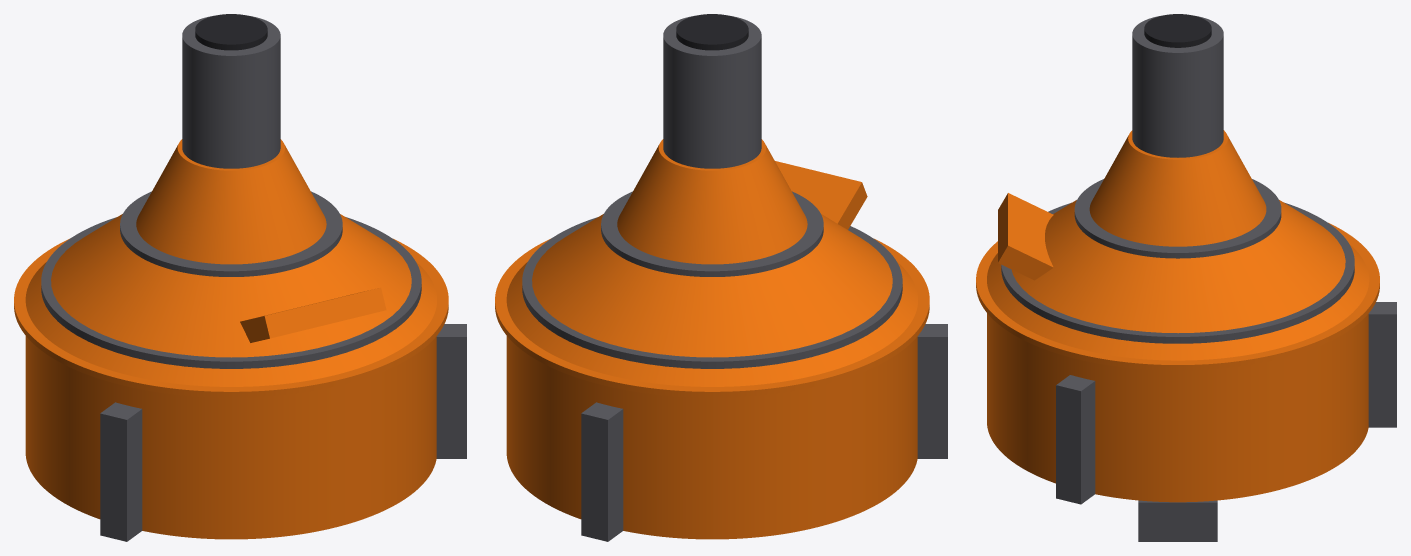
File: Planetary_Concrete_Mixer_500L.glb
3 views of the same model, side by side, from view 1: azimuth 30°, elevation 25°; view 2: azimuth 150°, elevation 25°; view 3: azimuth 270°, elevation 25° (orthographic). The views are drawn at different scales.
Visible parts, largest first — view 1: pan_1aa986, cover_c057bf, gearbox_5702c4, motor_c36afa, rim_d92a5f, water_ring_be586d, supports_0a0d2f, supports_225b87, plate_44587e, water_ring_7807a2, hatch_1ca435, rim (+5 smaller); view 2: pan_1aa986, cover_c057bf, gearbox_5702c4, motor_c36afa, rim_d92a5f, water_ring_be586d, supports_ed8d64, supports_d1896d, plate_44587e, water_ring_7807a2, rim, hatch_041ab1 (+5 smaller); view 3: pan_1aa986, cover_c057bf, gearbox_5702c4, motor_c36afa, rim_d92a5f, supports_60878e, discharge_gate_51c1df, water_ring_be586d, supports, plate_44587e, water_ring_7807a2, rim (+7 smaller).
Boxes of the visible parts, x1=… form: pan_1aa986: x1=25, y1=336, x2=436, y2=539; cover_c057bf: x1=25, y1=214, x2=436, y2=386; gearbox_5702c4: x1=136, y1=145, x2=326, y2=264; motor_c36afa: x1=182, y1=36, x2=280, y2=168; rim_d92a5f: x1=14, y1=238, x2=448, y2=391; water_ring_be586d: x1=41, y1=217, x2=421, y2=361; supports_0a0d2f: x1=436, y1=337, x2=466, y2=458; supports_225b87: x1=100, y1=413, x2=126, y2=541; plate_44587e: x1=120, y1=191, x2=342, y2=271; water_ring_7807a2: x1=41, y1=284, x2=421, y2=368; hatch_1ca435: x1=264, y1=287, x2=386, y2=338; rim: x1=14, y1=303, x2=448, y2=397; pan_1aa986: x1=506, y1=336, x2=917, y2=539; cover_c057bf: x1=506, y1=214, x2=917, y2=386; gearbox_5702c4: x1=617, y1=145, x2=807, y2=264; motor_c36afa: x1=663, y1=36, x2=761, y2=168; rim_d92a5f: x1=495, y1=238, x2=929, y2=391; water_ring_be586d: x1=522, y1=217, x2=902, y2=361; supports_ed8d64: x1=917, y1=337, x2=947, y2=458; supports_d1896d: x1=581, y1=413, x2=607, y2=541; plate_44587e: x1=601, y1=191, x2=823, y2=271; water_ring_7807a2: x1=522, y1=284, x2=902, y2=368; rim: x1=495, y1=303, x2=929, y2=397; hatch_041ab1: x1=775, y1=161, x2=861, y2=223; pan_1aa986: x1=987, y1=313, x2=1368, y2=502; cover_c057bf: x1=987, y1=200, x2=1369, y2=360; gearbox_5702c4: x1=1089, y1=135, x2=1266, y2=246; motor_c36afa: x1=1132, y1=35, x2=1223, y2=157; rim_d92a5f: x1=976, y1=222, x2=1379, y2=364; supports_60878e: x1=1368, y1=314, x2=1396, y2=427; discharge_gate_51c1df: x1=1138, y1=502, x2=1217, y2=541; water_ring_be586d: x1=1001, y1=202, x2=1354, y2=336; supports: x1=1056, y1=385, x2=1080, y2=504; plate_44587e: x1=1074, y1=179, x2=1281, y2=252; water_ring_7807a2: x1=1001, y1=266, x2=1354, y2=343; rim: x1=976, y1=283, x2=1379, y2=370.
Bounding box in the file's own units: 1.68 × 1.98 × 1.75.
